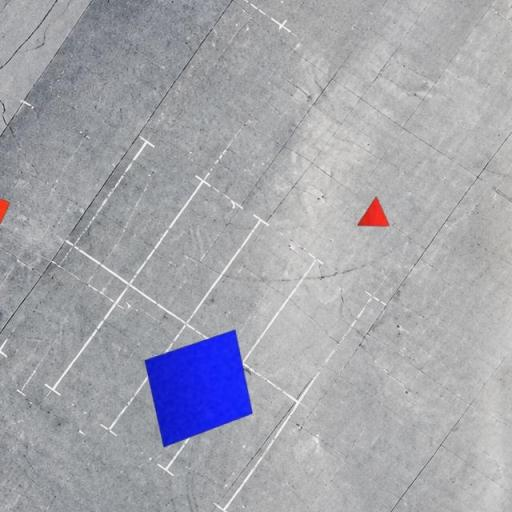BLUE_SQUARE: (144, 329, 254, 448)
